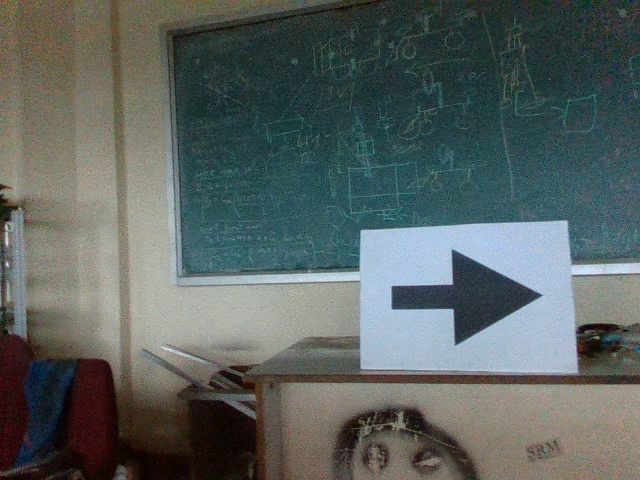Right: (385, 245, 546, 352)
